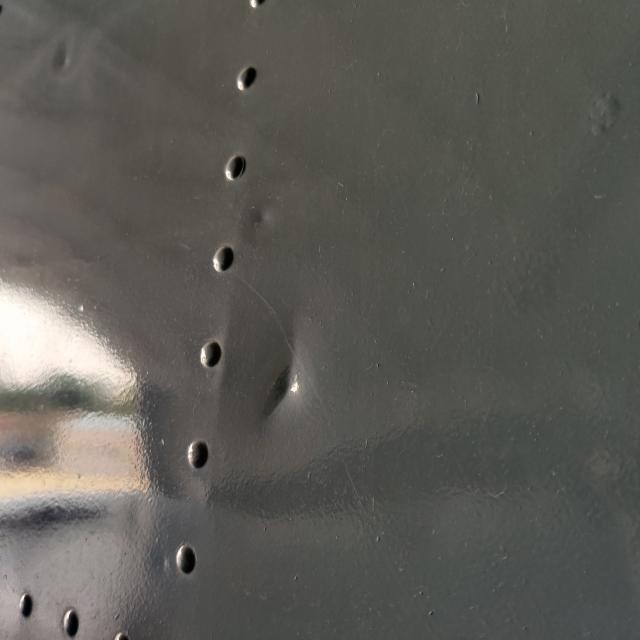dent: (230, 301, 337, 450)
